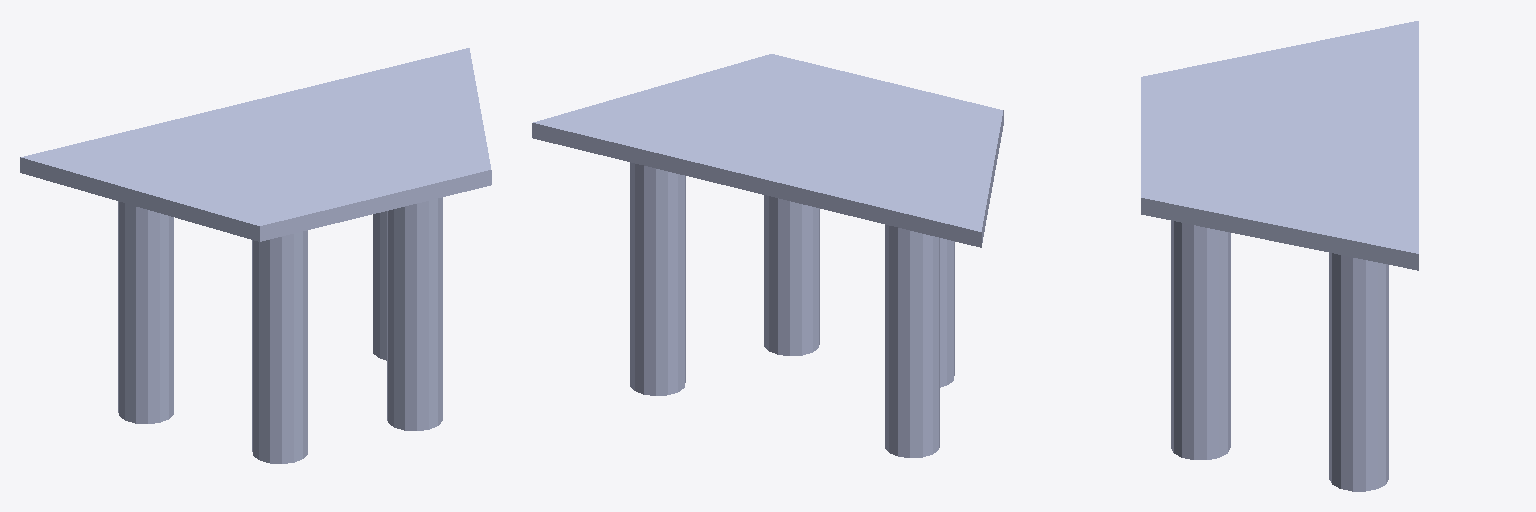
URDF robot description (w311_desk_v2):
<?xml version="1.0" encoding="utf-8"?>
<!-- This URDF was automatically created by SolidWorks to URDF Exporter! Originally created by [author] ([email redacted]) 
     Commit Version: 1.6.0-1-g15f4949  Build Version: 1.6.7594.29634
     For more information, please see http://wiki.ros.org/sw_urdf_exporter -->
<robot
  name="w311_desk_v2">
  <link
    name="base_link">
    <inertial>
      <origin
        xyz="0.18 0.18483936986403 0.442144420999872"
        rpy="0 0 0" />
      <mass
        value="54.9027256998223" />
      <inertia
        ixx="4.16066817232693"
        ixy="2.30095704504746E-16"
        ixz="-1.2192529733749E-15"
        iyy="6.63475944724859"
        iyz="-0.13954358275721"
        izz="5.80972388394545" />
    </inertial>
    <visual>
      <origin
        xyz="0 0 0"
        rpy="0 0 0" />
      <geometry>
        <mesh
          filename="package://w311_desk_v2/meshes/base_link.STL" />
      </geometry>
      <material
        name="">
        <color
          rgba="0.792156862745098 0.819607843137255 0.933333333333333 1" />
      </material>
    </visual>
    <collision>
      <origin
        xyz="0 0 0"
        rpy="0 0 0" />
      <geometry>
        <mesh
          filename="package://w311_desk_v2/meshes/base_link.STL" />
      </geometry>
    </collision>
  </link>
</robot>

--- Facts derived from the render (not from the file) ---
The picture shows the robot from 3 angles, left to right: view 1: azimuth 30°, elevation 25°; view 2: azimuth 150°, elevation 25°; view 3: azimuth 270°, elevation 25°; orthographic projection.
Robot: w311_desk_v2 — 1 links, 0 joints (none); root link base_link; default pose: all joints at 0.
Visible links, largest first — view 1: base_link; view 2: base_link; view 3: base_link.
Link boxes in pixels (bbox=[...]): base_link: bbox=[20, 48, 491, 463]; base_link: bbox=[532, 54, 1003, 457]; base_link: bbox=[1141, 21, 1418, 491].
Bounding box of the posed robot: 1.2 × 0.604 × 0.66 m (x, y, z).
1 mesh visuals loaded from 1 distinct referenced files (1 binary STL).